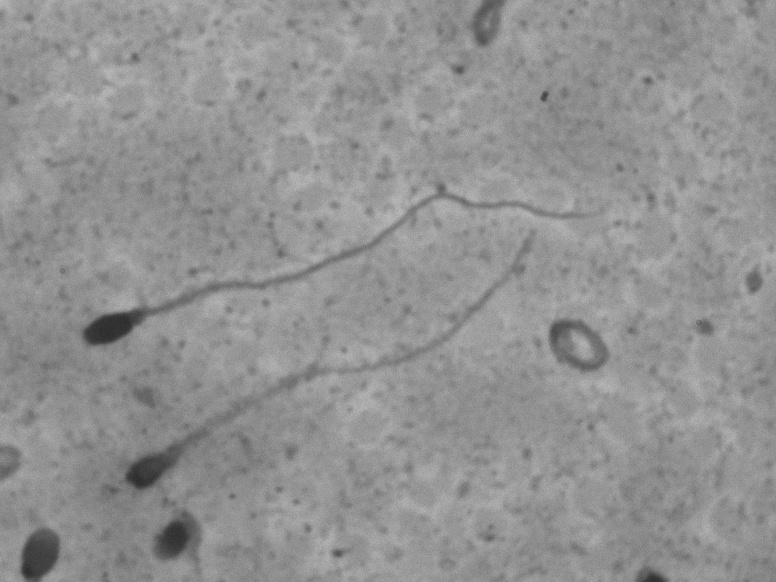Abnormal: (109, 219, 564, 505), (70, 234, 365, 368)
